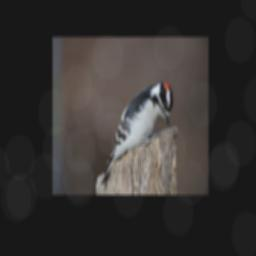Woodpecker: (100, 79, 174, 187)
